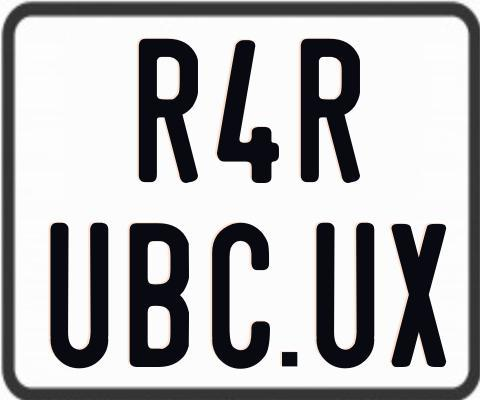4: (217, 38, 279, 185)
B: (128, 222, 193, 368)
C: (209, 223, 267, 372)
R: (136, 39, 197, 186), (298, 37, 357, 186)
U: (49, 222, 109, 373), (315, 221, 373, 372)
X: (388, 222, 447, 365)
